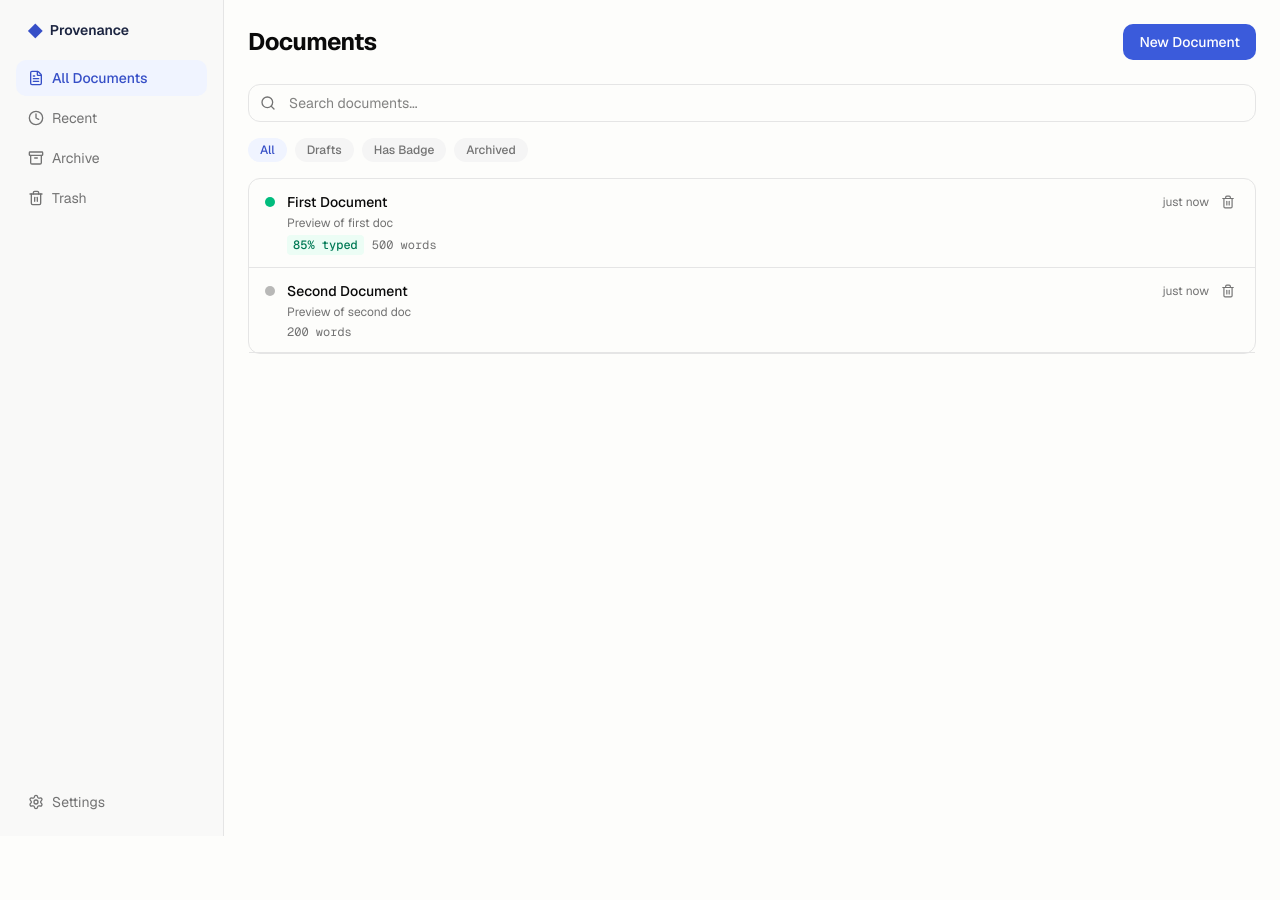
Scenario: DashboardContent › should filter by 'Drafts' chip
Step 1. Click the button "Drafts" → [324, 150], box [295,138,354,162]
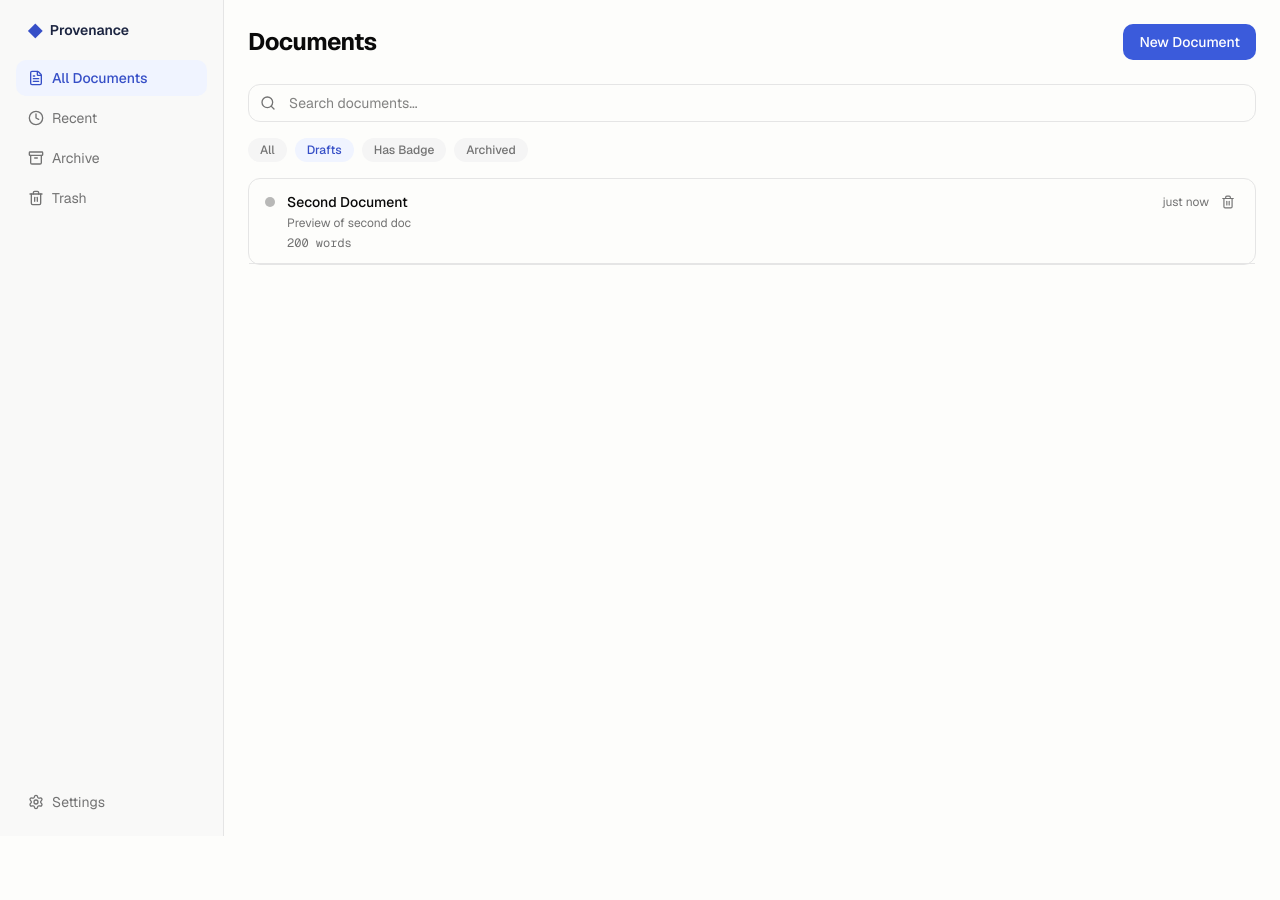
Expected: the text "Second Document" is shown, [287,192,408,212]
Expected: the button "First Document" is gone
